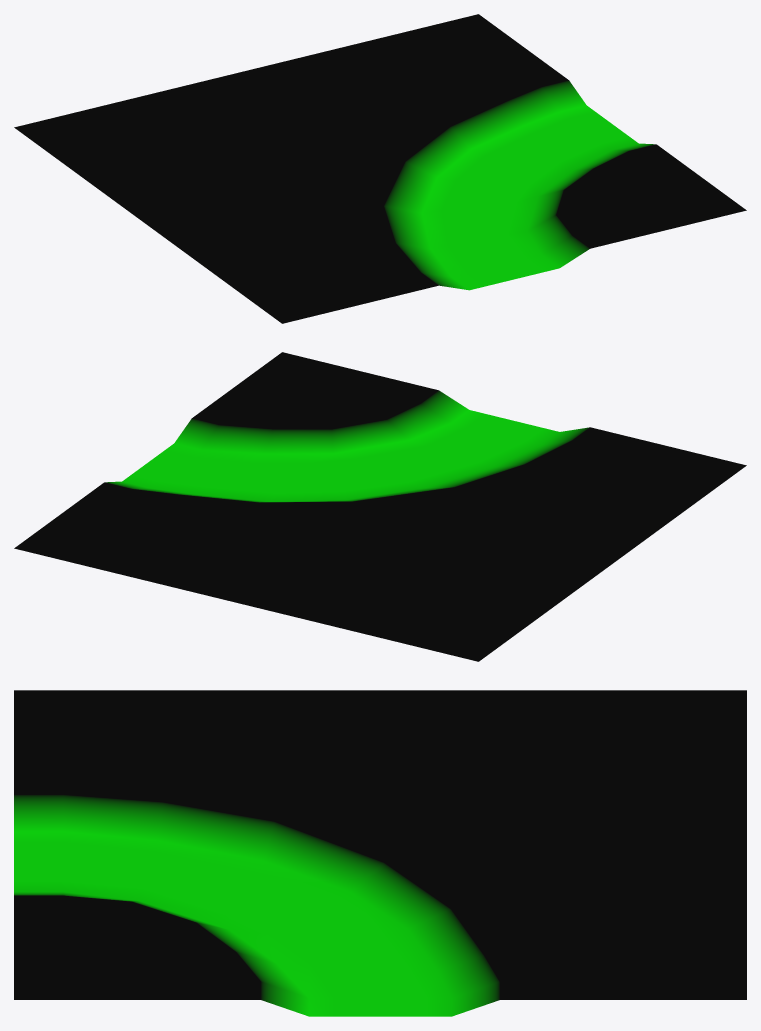
File: SM_Ground_8m_PathwayCornerB.FBX
3 renders of one model, top to bottom at view 1: azimuth 30°, elevation 25°; view 2: azimuth 150°, elevation 25°; view 3: azimuth 270°, elevation 25°, orthographic. The views are drawn at different scales.
Parts seen in each view (by area): view 1: SM_Ground_8m_PathwayCornerB; view 2: SM_Ground_8m_PathwayCornerB; view 3: SM_Ground_8m_PathwayCornerB.
Boxes of the visible parts, x1,y1,x2,y2 form: SM_Ground_8m_PathwayCornerB: (14,14,746,323); SM_Ground_8m_PathwayCornerB: (14,352,746,661); SM_Ground_8m_PathwayCornerB: (14,690,746,1016).
Bounding box in the file's own units: 800 × 800 × 20.
